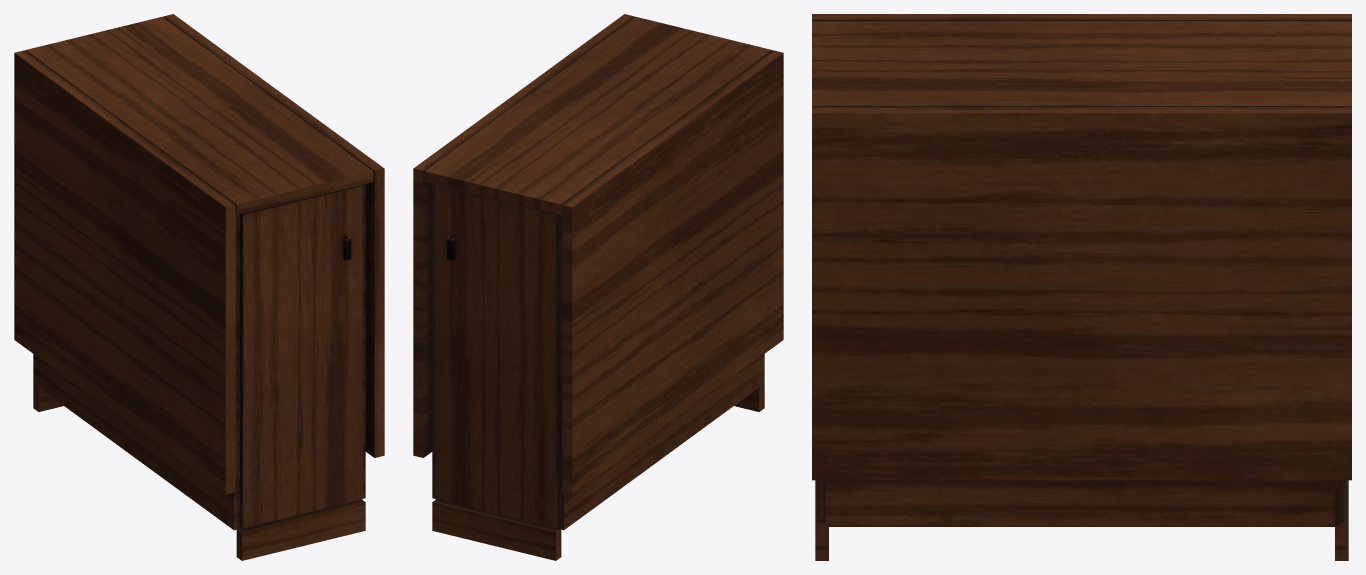
Rendered from table_book_closed_web.glb.
The picture shows the model from 3 angles, left to right: view 1: azimuth 30°, elevation 25°; view 2: azimuth 150°, elevation 25°; view 3: azimuth 270°, elevation 25°; orthographic projection. The views are drawn at different scales.
Visible parts, largest first — view 1: TableBookClosed_Body, Leaf_L_Mesh, Leaf_R_Mesh; view 2: TableBookClosed_Body, Leaf_L_Mesh, Leaf_R_Mesh; view 3: Leaf_R_Mesh, TableBookClosed_Body, Leaf_L_Mesh.
Part boxes in pixels (left/top/right/bottom): TableBookClosed_Body: left=25, top=16, right=373, bottom=560; Leaf_L_Mesh: left=14, top=50, right=235, bottom=494; Leaf_R_Mesh: left=163, top=14, right=384, bottom=457; TableBookClosed_Body: left=424, top=16, right=772, bottom=560; Leaf_L_Mesh: left=562, top=50, right=783, bottom=494; Leaf_R_Mesh: left=413, top=14, right=634, bottom=457; Leaf_R_Mesh: left=812, top=107, right=1351, bottom=480; TableBookClosed_Body: left=812, top=21, right=1351, bottom=560; Leaf_L_Mesh: left=812, top=14, right=1351, bottom=20.
Bounding box in the file's own units: 0.3479 × 0.7501 × 0.8.
Materials: 1 (1 with a texture image).
